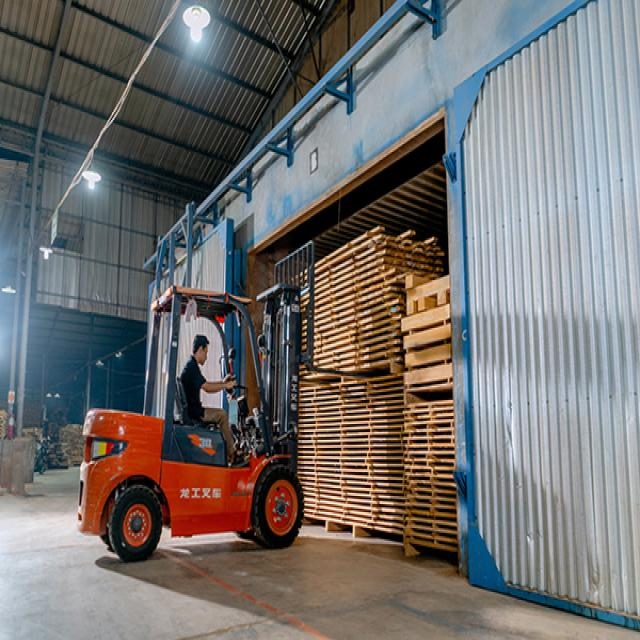Person: (182, 335, 250, 463)
